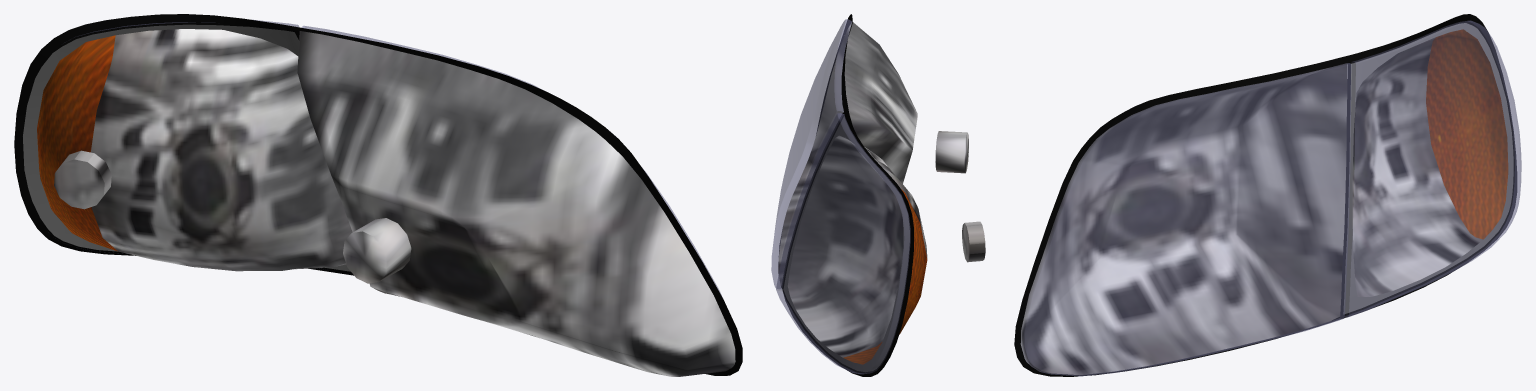
3 views of the same model, side by side, from view 1: azimuth 30°, elevation 25°; view 2: azimuth 150°, elevation 25°; view 3: azimuth 270°, elevation 25° (orthographic). The views are drawn at different scales.
Visible parts, largest first — view 1: P815_061B_L_P815_061B_L_2_N, P815_061B_L_P815_061B_L_6_N, P815_061B_L_P815_061B_L_7_D, P815_061B_L_P815_061B_L_3_N, P815_061B_L_1_DaS_P815_061B_L, P815_061B_L_P815_061B_L_4_DTaSI; view 2: P815_061B_L_P815_061B_L_4_DTaSI, P815_061B_L_P815_061B_L_6_N, P815_061B_L_P815_061B_L_2_N, P815_061B_L_P815_061B_L_7_D, P815_061B_L_1_DaS_P815_061B_L, P815_061B_L_P815_061B_L_3_N; view 3: P815_061B_L_P815_061B_L_4_DTaSI, P815_061B_L_P815_061B_L_2_N, P815_061B_L_P815_061B_L_6_N, P815_061B_L_P815_061B_L_3_N, P815_061B_L_P815_061B_L_7_D, P815_061B_L_1_DaS_P815_061B_L.
Part boxes in pixels (x1,y1,x2,y2): P815_061B_L_P815_061B_L_2_N: (297,31,735,376); P815_061B_L_P815_061B_L_6_N: (54,29,352,271); P815_061B_L_P815_061B_L_7_D: (14,14,742,375); P815_061B_L_P815_061B_L_3_N: (37,35,117,251); P815_061B_L_1_DaS_P815_061B_L: (23,24,350,271); P815_061B_L_P815_061B_L_4_DTaSI: (81,19,722,297); P815_061B_L_P815_061B_L_4_DTaSI: (771,19,910,374); P815_061B_L_P815_061B_L_6_N: (788,135,985,357); P815_061B_L_P815_061B_L_2_N: (778,22,968,284); P815_061B_L_P815_061B_L_7_D: (779,14,913,376); P815_061B_L_1_DaS_P815_061B_L: (783,116,909,371); P815_061B_L_P815_061B_L_3_N: (843,189,927,364); P815_061B_L_P815_061B_L_4_DTaSI: (1021,20,1521,376); P815_061B_L_P815_061B_L_2_N: (1020,63,1347,374); P815_061B_L_P815_061B_L_6_N: (1352,37,1482,296); P815_061B_L_P815_061B_L_3_N: (1426,29,1508,239); P815_061B_L_P815_061B_L_7_D: (1014,14,1516,376); P815_061B_L_1_DaS_P815_061B_L: (1343,23,1513,314).
Size of the model in its own units: 33.18 by 19.46 by 38.24.
